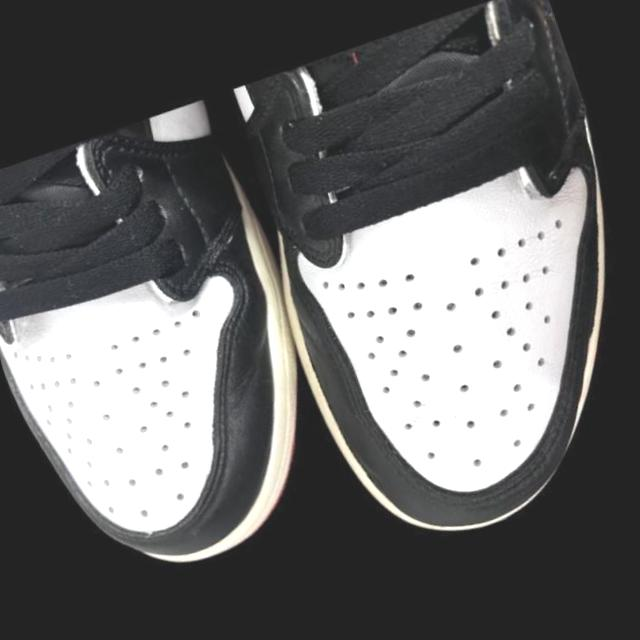nike_original_jordan: (202, 0, 640, 577), (0, 82, 366, 612)
